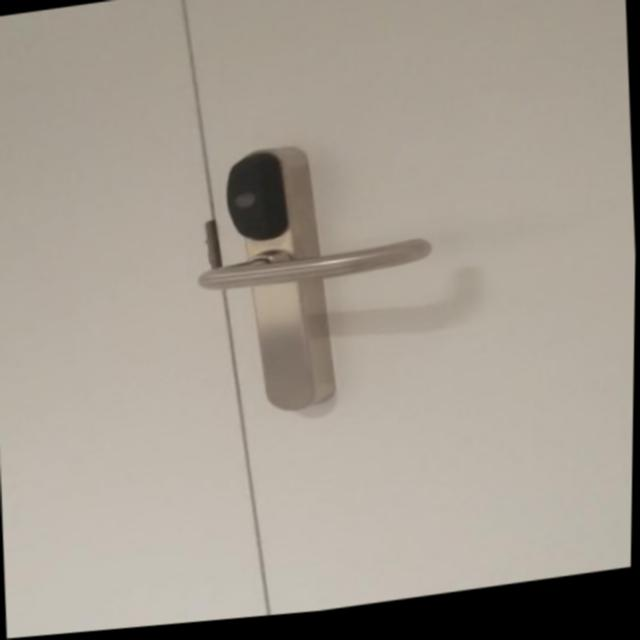door_handle: (184, 228, 447, 307)
